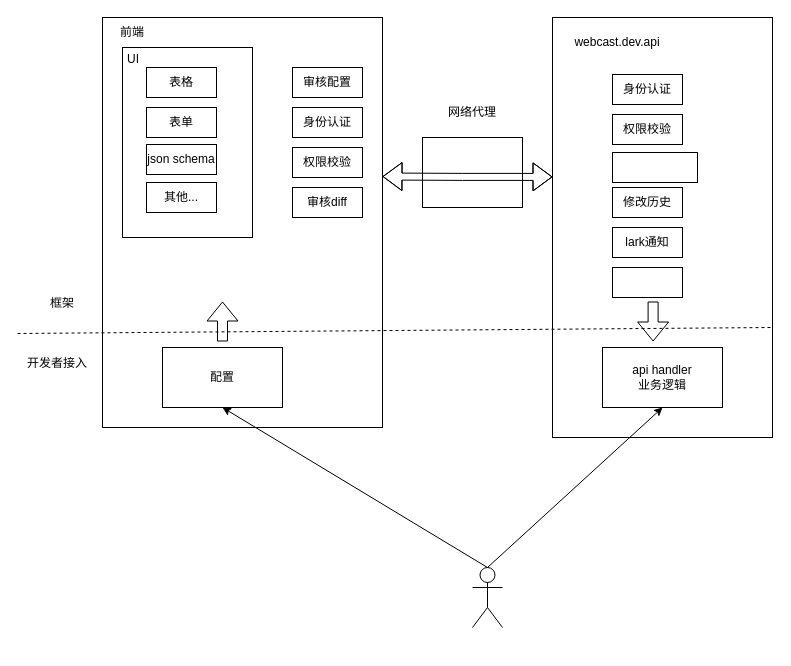
Image size: 791x666. Some labels were removed from this diagram. Here are the shapes that lost their labels. From the top down, the centre of each, then its label:
At pixel 472 172: "ies.fe.live_cloud".
At pixel 655 167: "工单重复检测".
At pixel 647 282: "参数绑定".
At pixel 487 597: "开发者".
